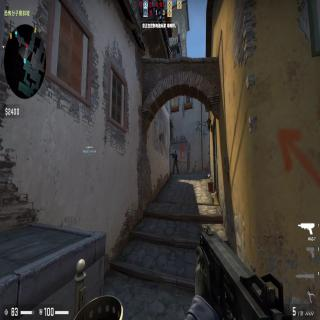T-Body: (173, 151, 179, 175)
